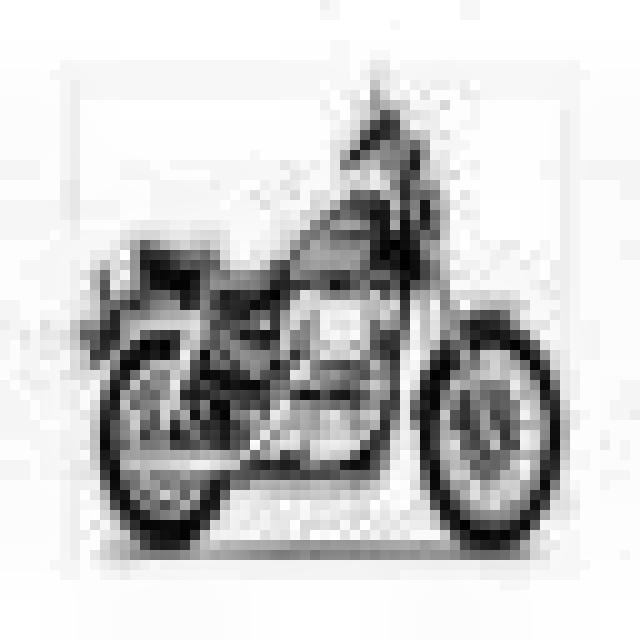mopeds: (64, 91, 589, 563)
